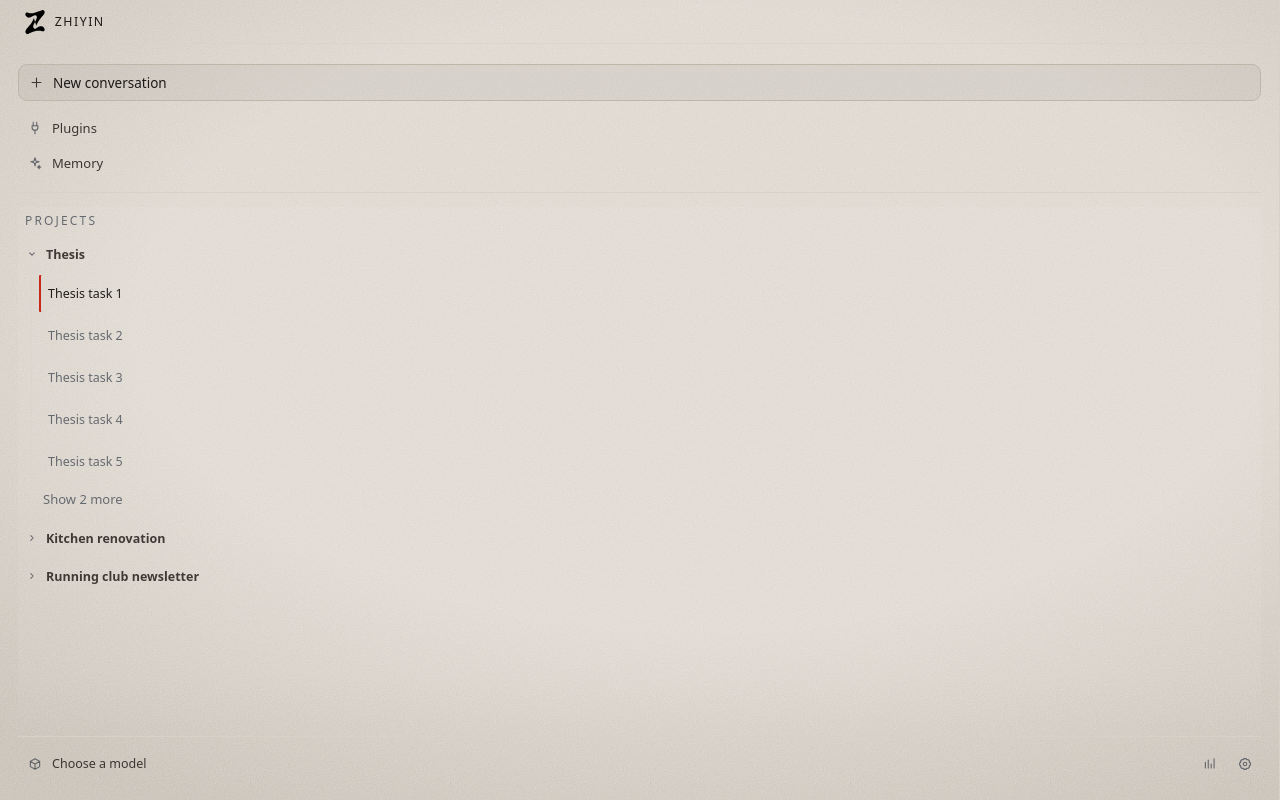
it: AppSidebar with projects › shows a project's five latest conversations, then the rest on request
Check: the text "Thesis task 5" is shown, box [48, 453, 123, 470]
Check: the text "Thesis task 6" is not shown
Click the button "Show 2 more" at (83, 499), box [38, 486, 128, 512]
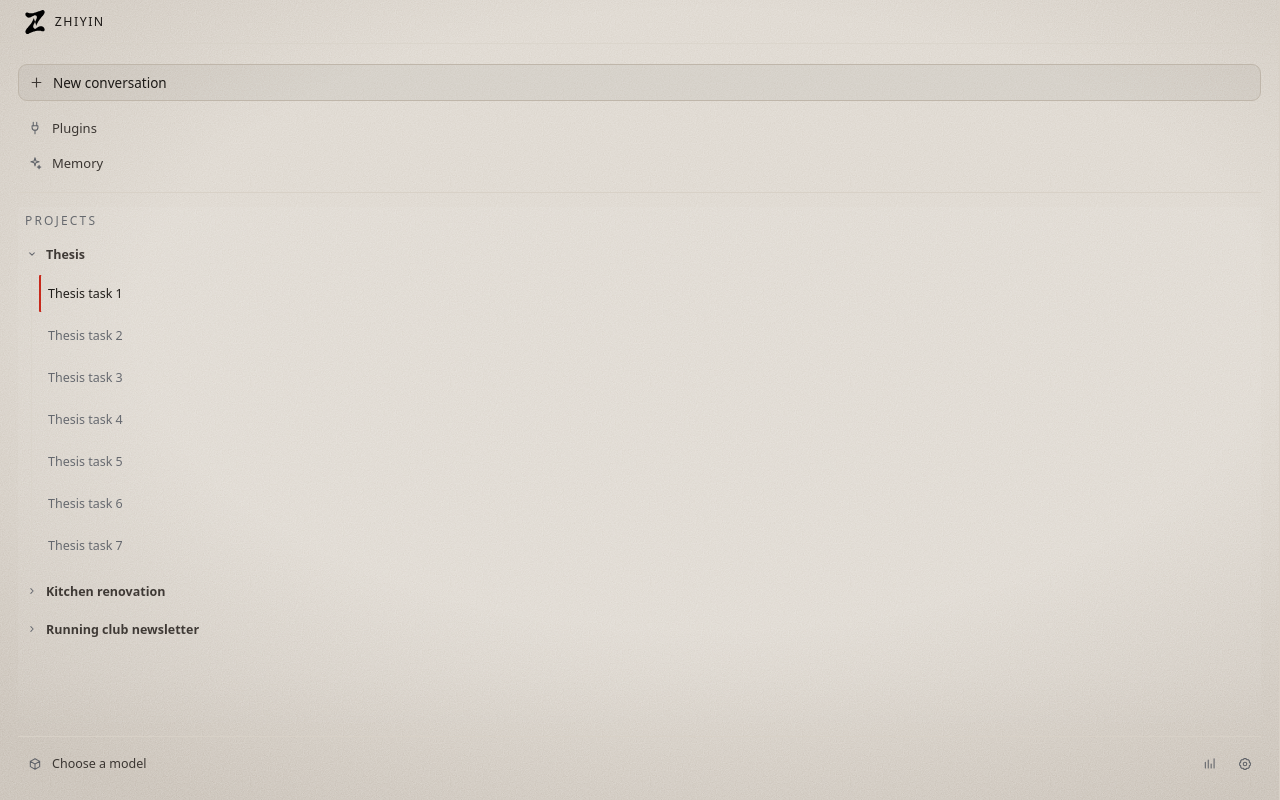
Check: the text "Thesis task 7" is shown, box [48, 537, 123, 554]
